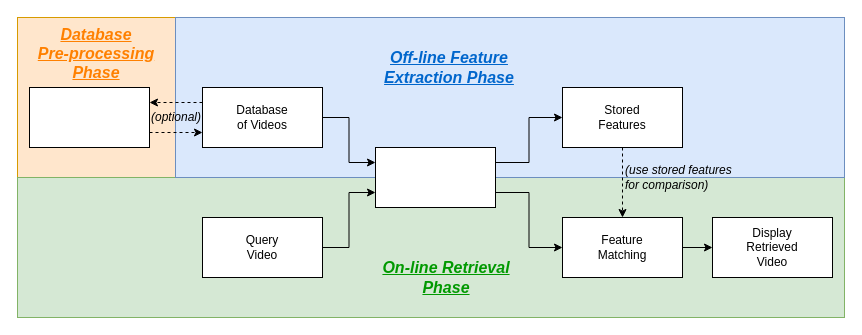
Image size: 862x335. Some labels were removed from this diagram. Here are the shapes that lost their labels. From the top down, the centre of each, then its label:
the point at 89,117: Pre-processing
the point at 435,177: Feature Extraction
